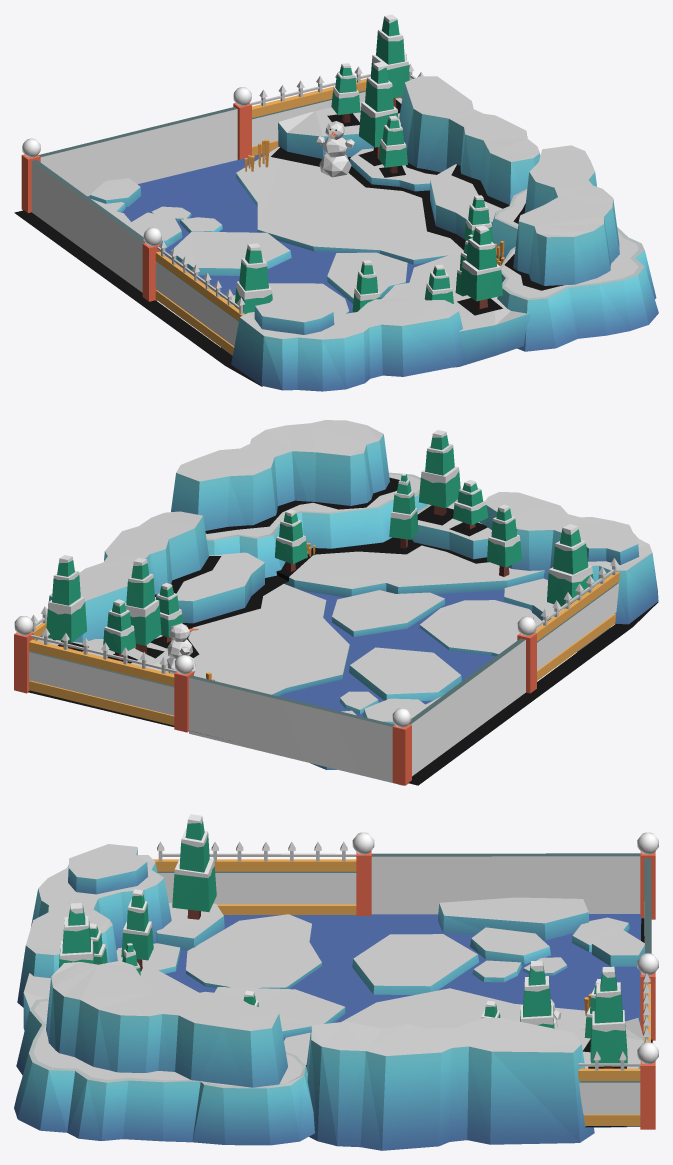
Rendered from xweilan_1022_5.FBX.
3 renders of one model, top to bottom at view 1: azimuth 30°, elevation 25°; view 2: azimuth 150°, elevation 25°; view 3: azimuth 270°, elevation 25°, orthographic. The views are drawn at different scales.
Parts seen in each view (by area): view 1: xweilan_1022_5; view 2: xweilan_1022_5; view 3: xweilan_1022_5.
Part boxes in pixels (<box>): xweilan_1022_5: <box>14,14,658,391</box>; xweilan_1022_5: <box>14,420,658,785</box>; xweilan_1022_5: <box>14,814,658,1150</box>.
Size of the model in its own units: 4497 by 1393 by 5216.
